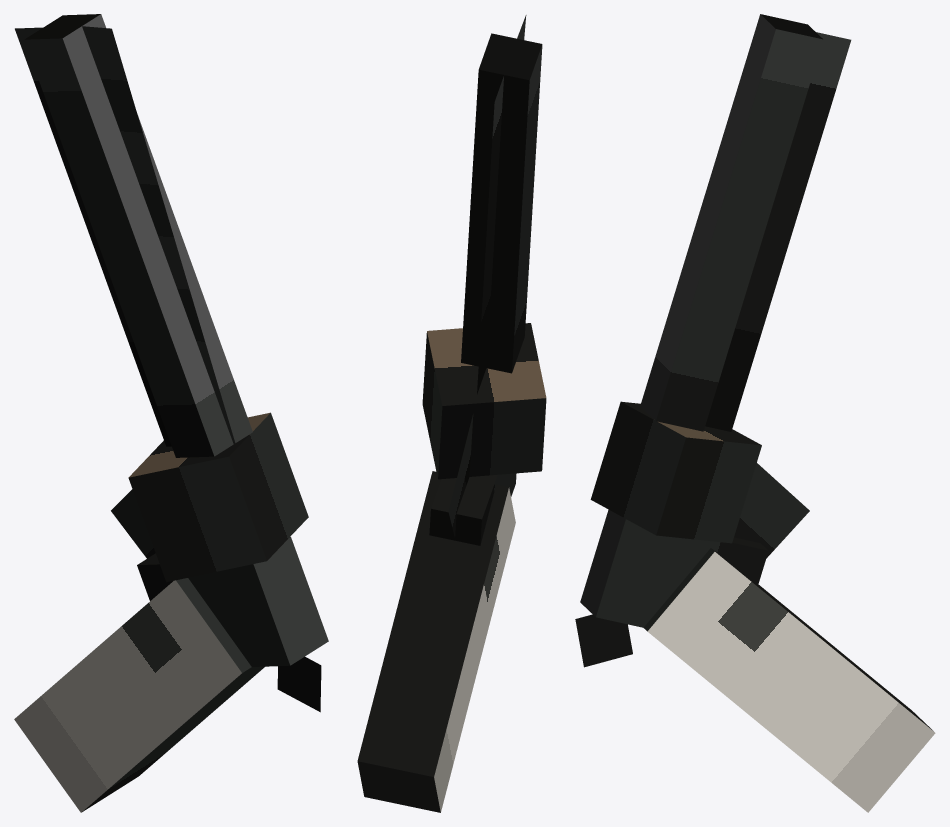
The model's file is spyrevolver.obj.
3 renders of one model, left to right at view 1: azimuth 30°, elevation 25°; view 2: azimuth 150°, elevation 25°; view 3: azimuth 270°, elevation 25°, orthographic. The views are drawn at different scales.
Visible parts, largest first — view 1: cube; view 2: cube; view 3: cube.
Part boxes in pixels (x1,y1,x2,y2): cube: (14, 14, 328, 812); cube: (357, 15, 546, 812); cube: (575, 14, 935, 812).
Size of the model in its own units: 0.1886 by 0.7508 by 0.3227.
Materials: 1 (1 with a texture image).
